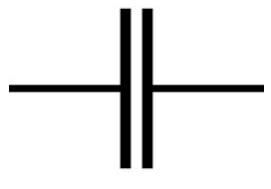Capacitor: (109, 4, 171, 170)
